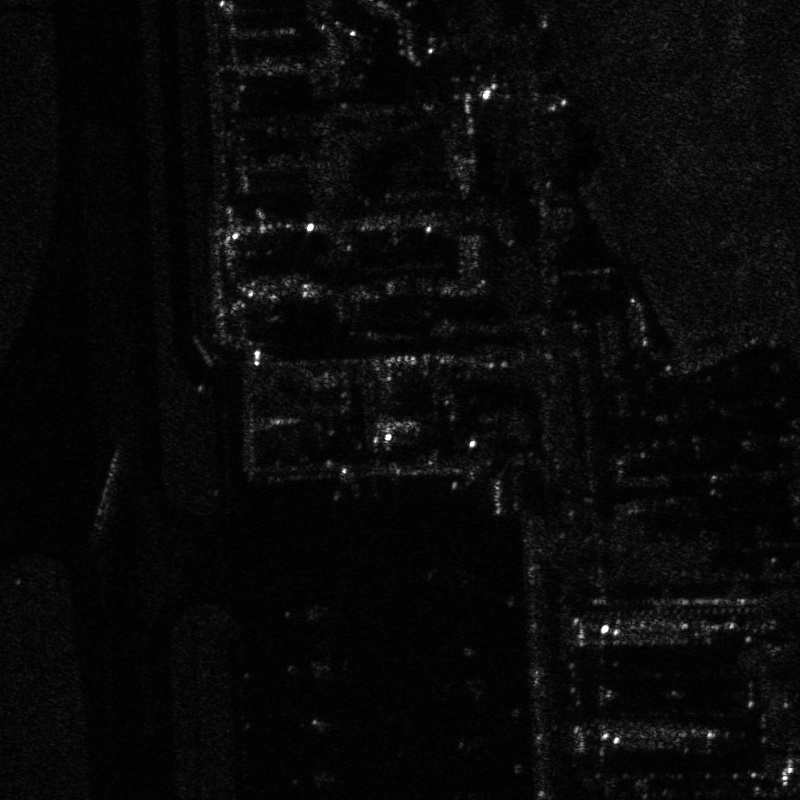ARJ21: (283, 649, 340, 686), (297, 704, 348, 741)
other: (285, 759, 345, 799), (282, 592, 336, 630)
